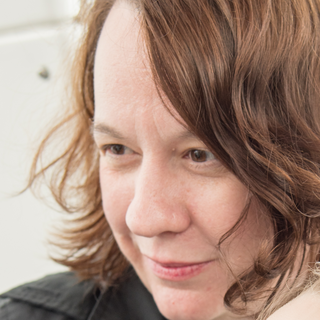eye: (95, 139, 140, 163)
